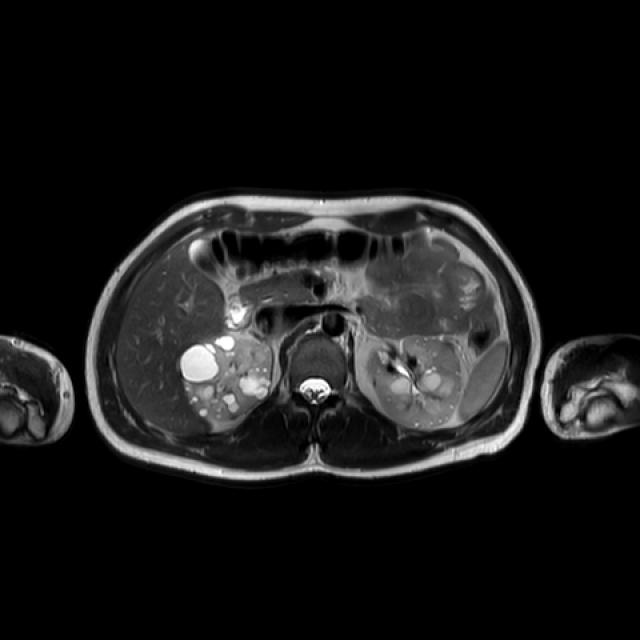Sag: (182, 333, 274, 422)
Sol: (368, 336, 462, 428)
